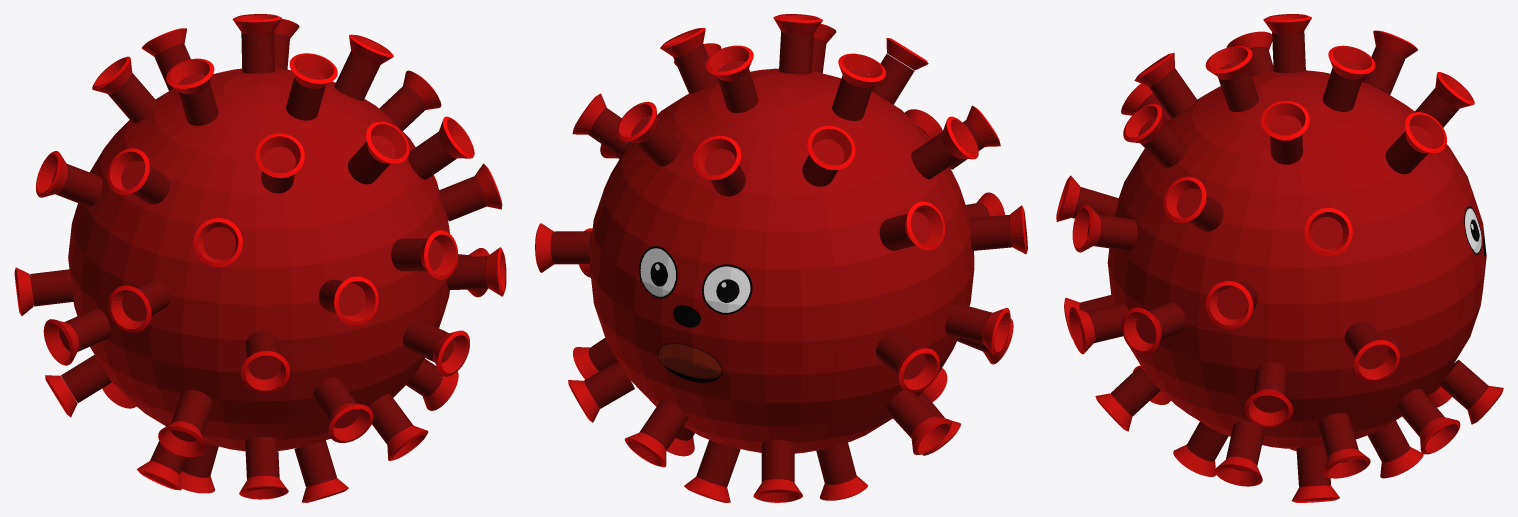
The model's file is weekestEnemy.obj.
3 renders of one model, left to right at view 1: azimuth 30°, elevation 25°; view 2: azimuth 150°, elevation 25°; view 3: azimuth 270°, elevation 25°, orthographic.
Visible parts, largest first — view 1: 球; view 2: 球; view 3: 球.
Part boxes in pixels (x1=…): 球: x1=14, y1=14, x2=506, y2=502; 球: x1=535, y1=14, x2=1027, y2=502; 球: x1=1056, y1=14, x2=1503, y2=502.
Size of the model in its own units: 2.55 by 2.52 by 2.36.
Materials: 2 (2 with a texture image).
